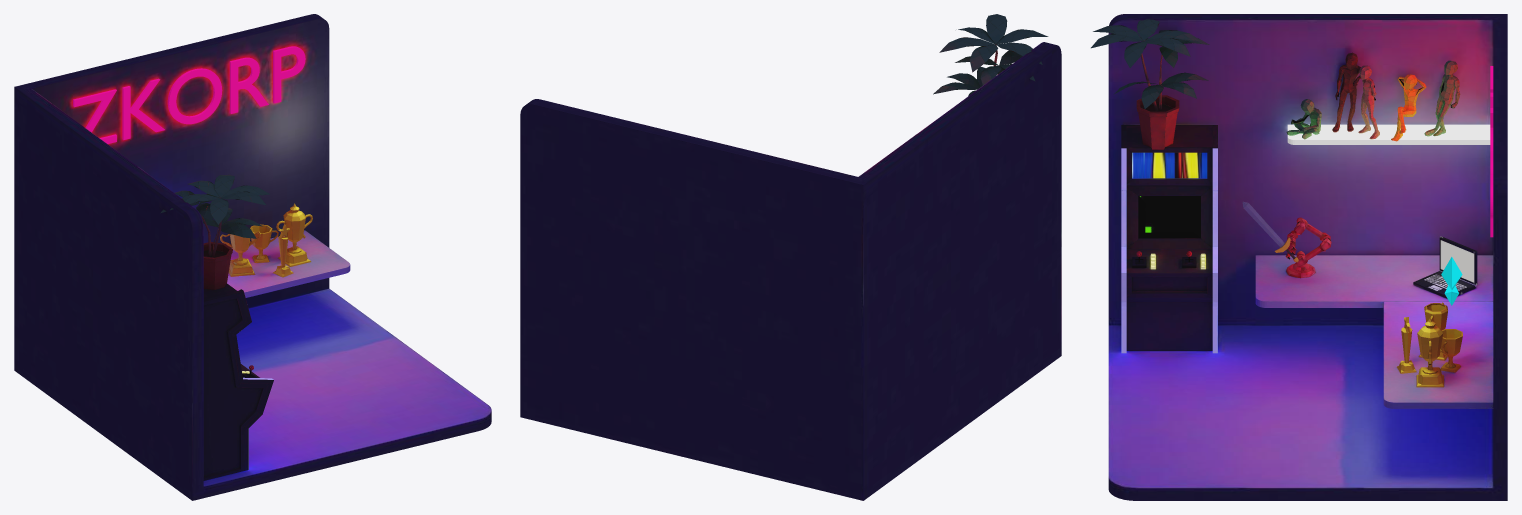
File: garage.gltf
The picture shows the model from 3 angles, left to right: view 1: azimuth 30°, elevation 25°; view 2: azimuth 150°, elevation 25°; view 3: azimuth 270°, elevation 25°; orthographic projection. The views are drawn at different scales.
Parts seen in each view (by area): view 1: _Room_Baked, Object_9_Baked, logo_Baked, Object_17_Baked, Table.001_Baked, trophy_L_Baked, trophy_M_Baked, trophy_S_Baked; view 2: _Room_Baked, Object_17_Baked; view 3: _Room_Baked, Table.001_Baked, Object_9_Baked, Object_17_Baked, Shelving_Baked, Object_10_Baked, Object_11_Baked, Object_12_Baked, trophy_L_Baked, robotArm_Baked, guy5_Baked, guy2_Baked (+11 smaller).
Boxes of the visible parts, x1,y1,x2,y2 form: _Room_Baked: (14, 14, 491, 500); Object_9_Baked: (203, 283, 273, 480); logo_Baked: (73, 46, 305, 143); Object_17_Baked: (160, 174, 269, 289); Table.001_Baked: (227, 230, 350, 297); trophy_L_Baked: (276, 203, 312, 266); trophy_M_Baked: (220, 231, 260, 276); trophy_S_Baked: (249, 224, 278, 262); _Room_Baked: (520, 42, 1061, 500); Object_17_Baked: (933, 14, 1048, 96); _Room_Baked: (1108, 14, 1507, 500); Table.001_Baked: (1255, 255, 1493, 408); Object_9_Baked: (1121, 125, 1217, 350); Object_17_Baked: (1091, 19, 1209, 149); Shelving_Baked: (1287, 124, 1490, 144); Object_10_Baked: (1138, 196, 1200, 237); Object_11_Baked: (1121, 148, 1217, 353); Object_12_Baked: (1132, 152, 1207, 178); trophy_L_Baked: (1416, 318, 1443, 387); robotArm_Baked: (1285, 217, 1331, 278); guy5_Baked: (1332, 52, 1360, 132); guy2_Baked: (1424, 60, 1460, 136).
Size of the model in its own units: 4.06 by 3.61 by 4.19.
Materials: 29 (29 with a texture image).
